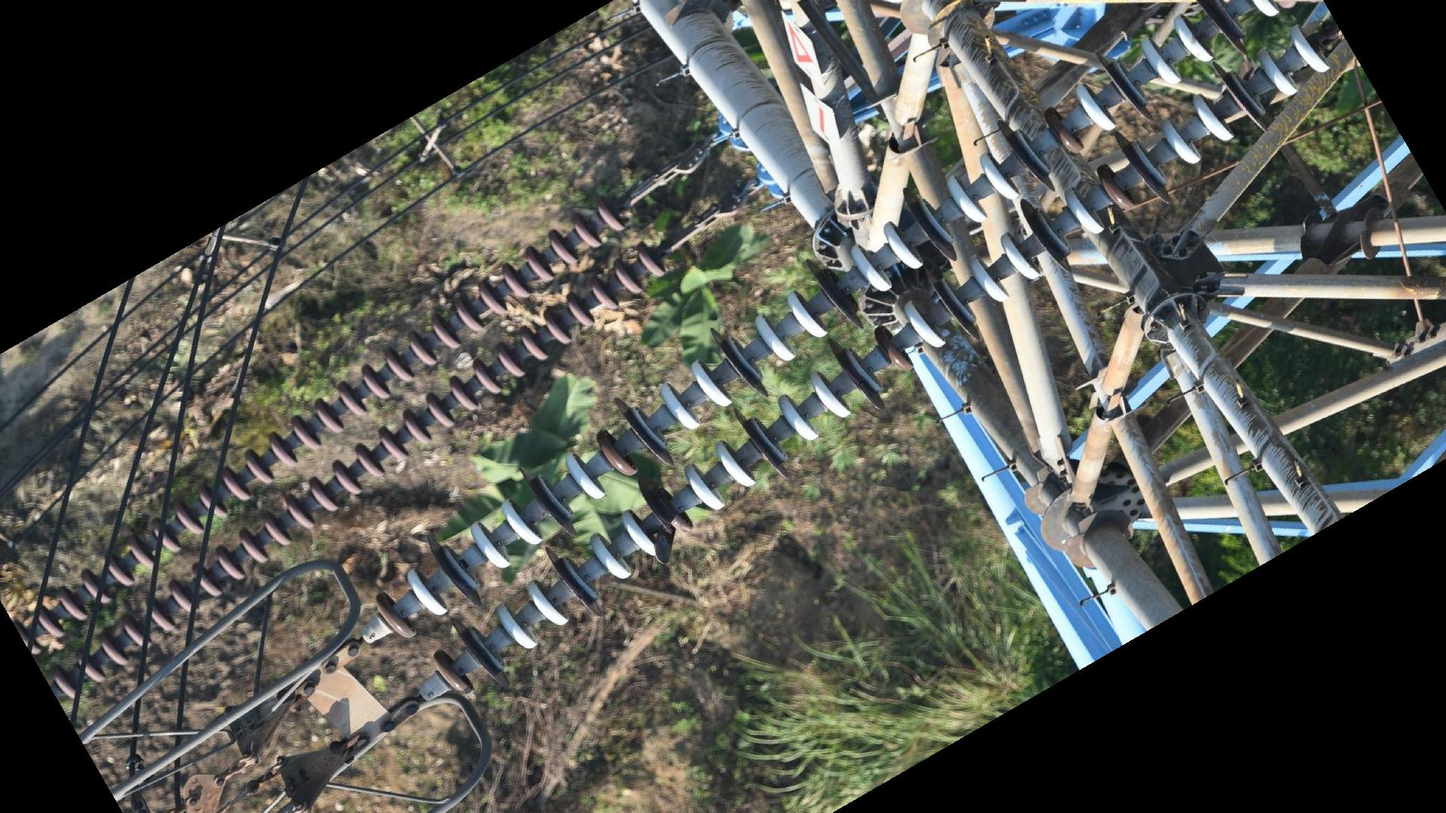insulator: (368, 1, 1345, 707), (26, 190, 679, 711)
